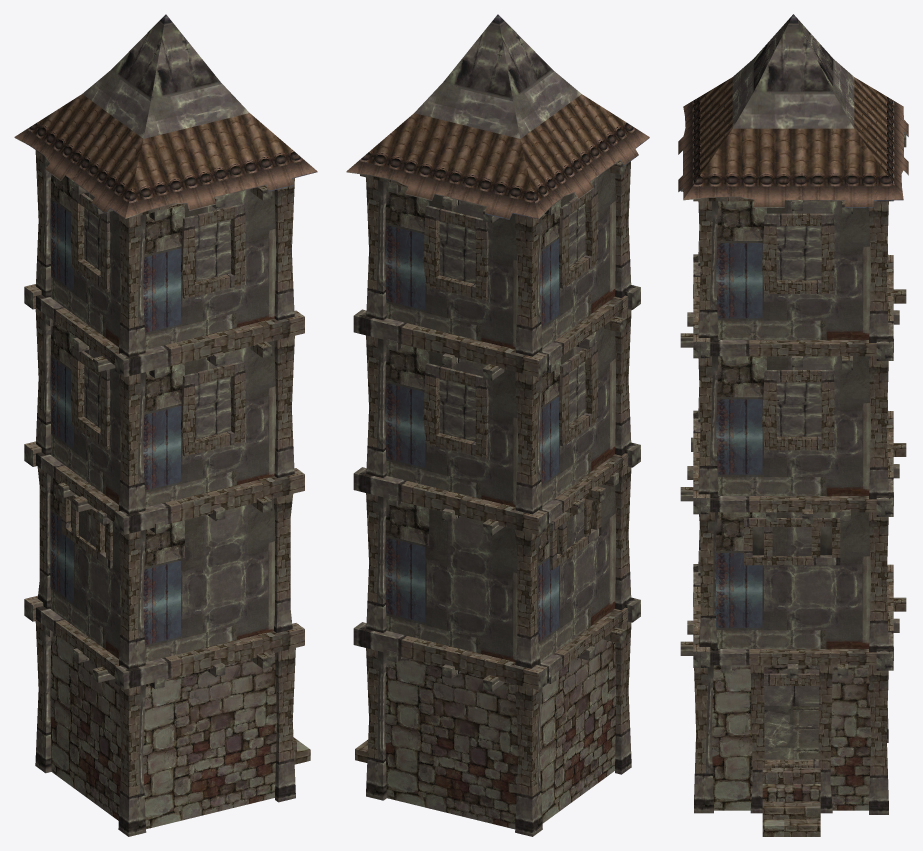
The model's file is House.fbx.
3 renders of one model, left to right at view 1: azimuth 30°, elevation 25°; view 2: azimuth 150°, elevation 25°; view 3: azimuth 270°, elevation 25°, orthographic.
Parts seen in each view (by area): view 1: TO14_SM_MP_House1_16.mo; view 2: TO14_SM_MP_House1_16.mo; view 3: TO14_SM_MP_House1_16.mo.
Boxes of the visible parts, <box> form: TO14_SM_MP_House1_16.mo: <box>14,14,317,836</box>; TO14_SM_MP_House1_16.mo: <box>346,14,649,836</box>; TO14_SM_MP_House1_16.mo: <box>678,14,908,836</box>.
Bounding box in the file's own units: 587 × 1873 × 514.
